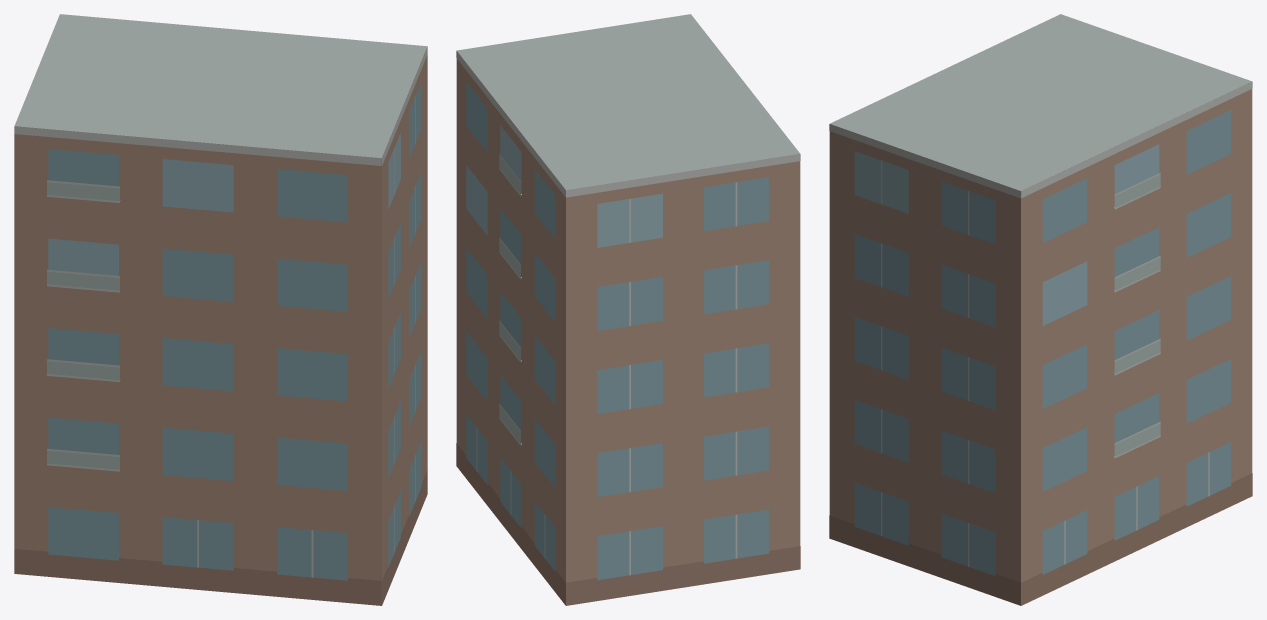
The model's file is survey-upis-32539398.glb.
3 renders of one model, left to right at view 1: azimuth 30°, elevation 25°; view 2: azimuth 150°, elevation 25°; view 3: azimuth 270°, elevation 25°, orthographic. The views are drawn at different scales.
Visible parts, largest first — view 1: survey-upis-32539398.tmp; view 2: survey-upis-32539398.tmp; view 3: survey-upis-32539398.tmp.
Part boxes in pixels (<box>): survey-upis-32539398.tmp: <box>14,14,427,605</box>; survey-upis-32539398.tmp: <box>456,14,800,605</box>; survey-upis-32539398.tmp: <box>829,14,1252,605</box>.
Size of the model in its own units: 12.74 by 13.9 by 12.86.
